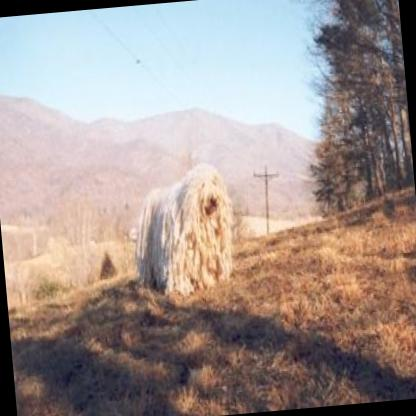komondor: (121, 158, 243, 304)
